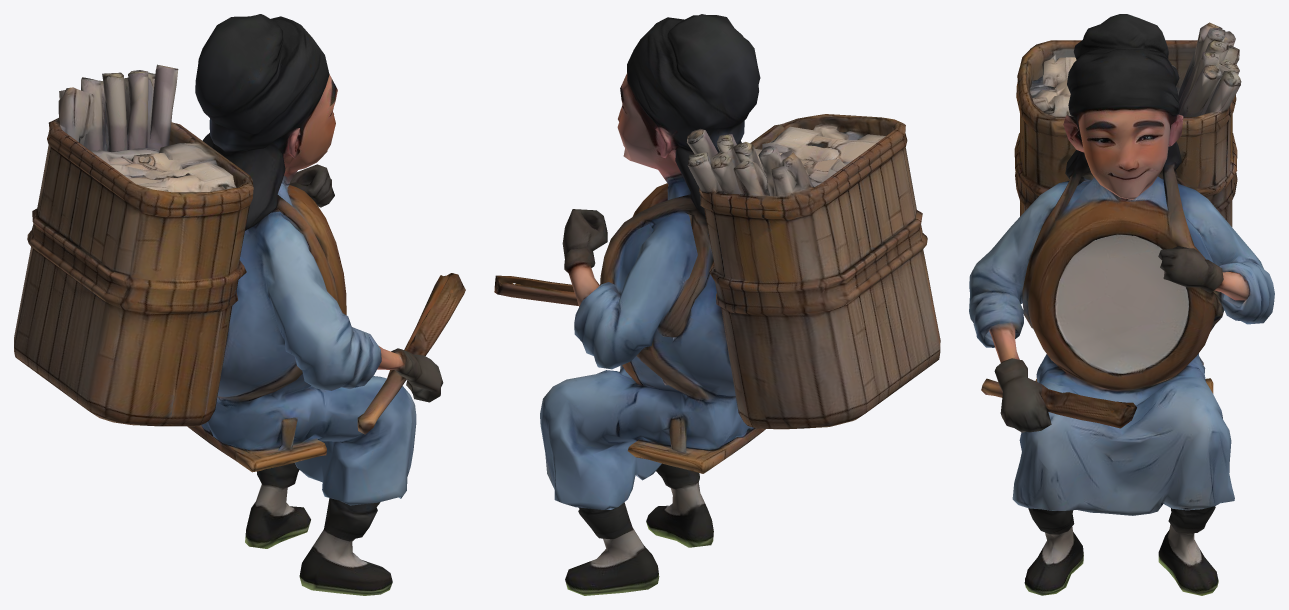
Rendered from a_scholar.glb.
3 renders of one model, left to right at view 1: azimuth 30°, elevation 25°; view 2: azimuth 150°, elevation 25°; view 3: azimuth 270°, elevation 25°, orthographic. The views are drawn at different scales.
Parts seen in each view (by area): view 1: tripo_node_976e5095-8662-4674-bb14-5f2a82c75d05; view 2: tripo_node_976e5095-8662-4674-bb14-5f2a82c75d05; view 3: tripo_node_976e5095-8662-4674-bb14-5f2a82c75d05.
Part boxes in pixels (<box>): tripo_node_976e5095-8662-4674-bb14-5f2a82c75d05: <box>14,14,465,595</box>; tripo_node_976e5095-8662-4674-bb14-5f2a82c75d05: <box>494,14,940,595</box>; tripo_node_976e5095-8662-4674-bb14-5f2a82c75d05: <box>969,14,1274,595</box>.
Size of the model in its own units: 0.7708 by 1 by 0.5207.
1 material, 1 textured.
